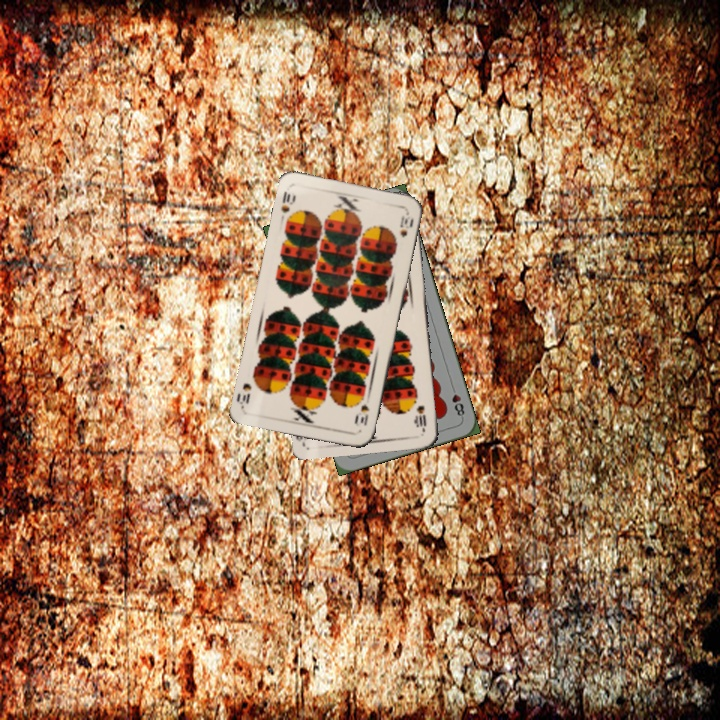H8: (447, 382, 467, 421)
S10: (277, 187, 298, 216), (353, 400, 372, 429), (412, 401, 429, 433)
